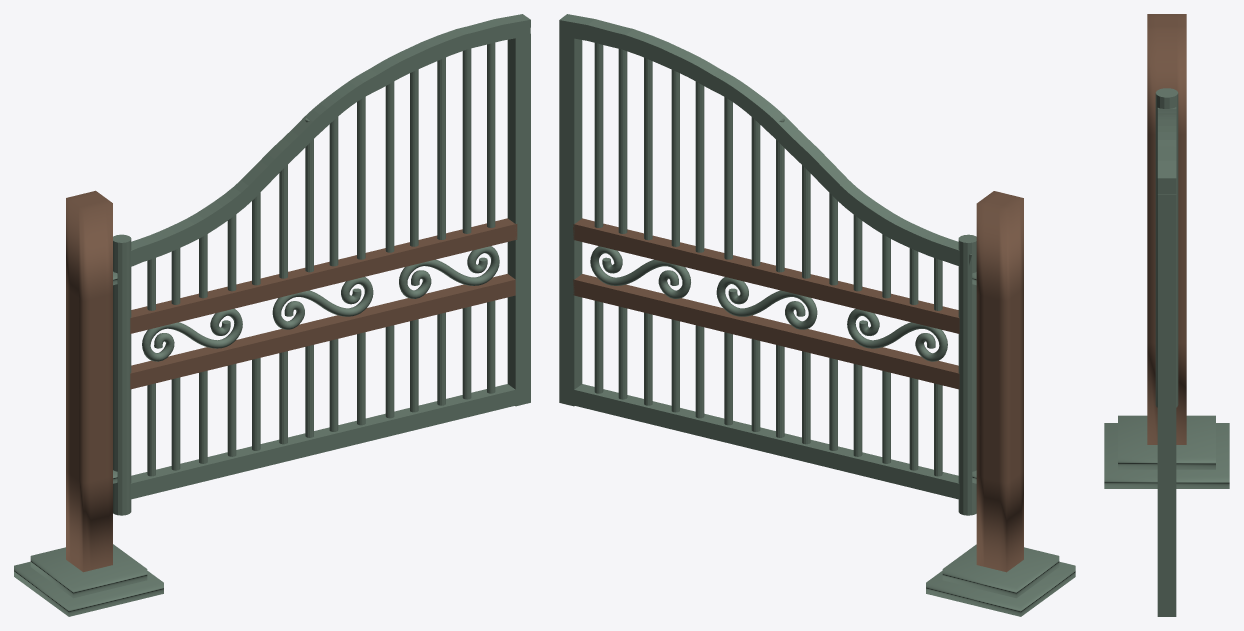
Rendered from gate door düz.fbx.
3 views of the same model, side by side, from view 1: azimuth 30°, elevation 25°; view 2: azimuth 150°, elevation 25°; view 3: azimuth 270°, elevation 25° (orthographic). The views are drawn at different scales.
Parts seen in each view (by area): view 1: BézierCurve.001, BézierCurve.003, Cube.002, Cube.001; view 2: BézierCurve.001, Cube.002, BézierCurve.003, Cube.001; view 3: BézierCurve.001, Cube.002, Cube.001.
Boxes of the visible parts, left/top/right/bottom form: BézierCurve.001: left=113, top=14, right=530, bottom=515; BézierCurve.003: left=130, top=218, right=517, bottom=389; Cube.002: left=66, top=190, right=112, bottom=572; Cube.001: left=14, top=271, right=163, bottom=616; BézierCurve.001: left=559, top=14, right=976, bottom=515; Cube.002: left=976, top=191, right=1023, bottom=572; BézierCurve.003: left=573, top=218, right=959, bottom=389; Cube.001: left=926, top=272, right=1075, bottom=616; BézierCurve.001: left=1155, top=88, right=1178, bottom=616; Cube.002: left=1147, top=14, right=1186, bottom=444; Cube.001: left=1104, top=415, right=1229, bottom=488.
Bounding box in the file's own units: 338 × 308 × 66.05.
